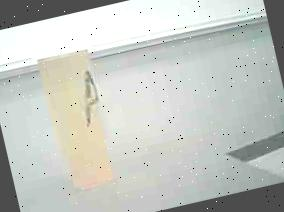Bottle A: (36, 39, 112, 189)
